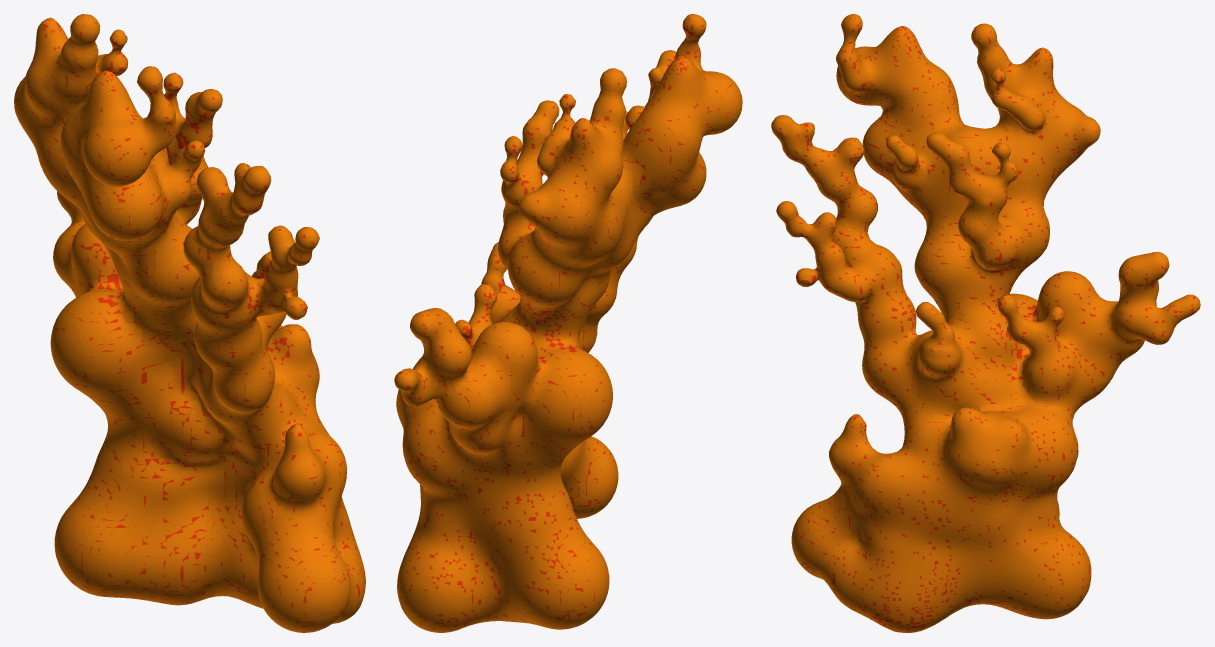
The model's file is batu karang2.fbx.
3 views of the same model, side by side, from view 1: azimuth 30°, elevation 25°; view 2: azimuth 150°, elevation 25°; view 3: azimuth 270°, elevation 25° (orthographic). The views are drawn at different scales.
Parts seen in each view (by area): view 1: Mball.112; view 2: Mball.112; view 3: Mball.112.
Boxes of the visible parts, x1,y1,x2,y2 form: Mball.112: (14,14,365,632); Mball.112: (394,14,742,632); Mball.112: (771,14,1200,632).
Size of the model in its own units: 115 by 232 by 169.
